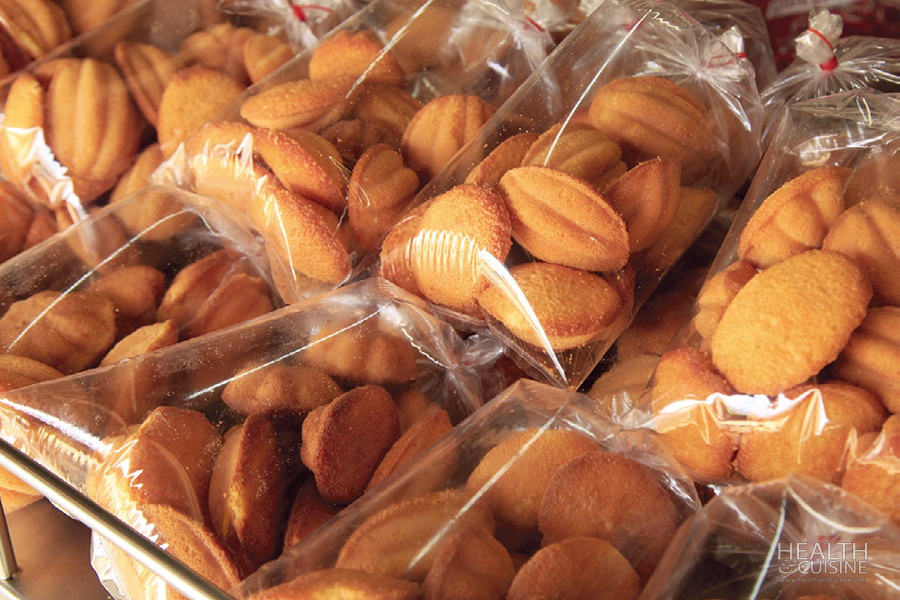kanomkai: (709, 241, 873, 403), (485, 153, 639, 285), (239, 72, 360, 140)
